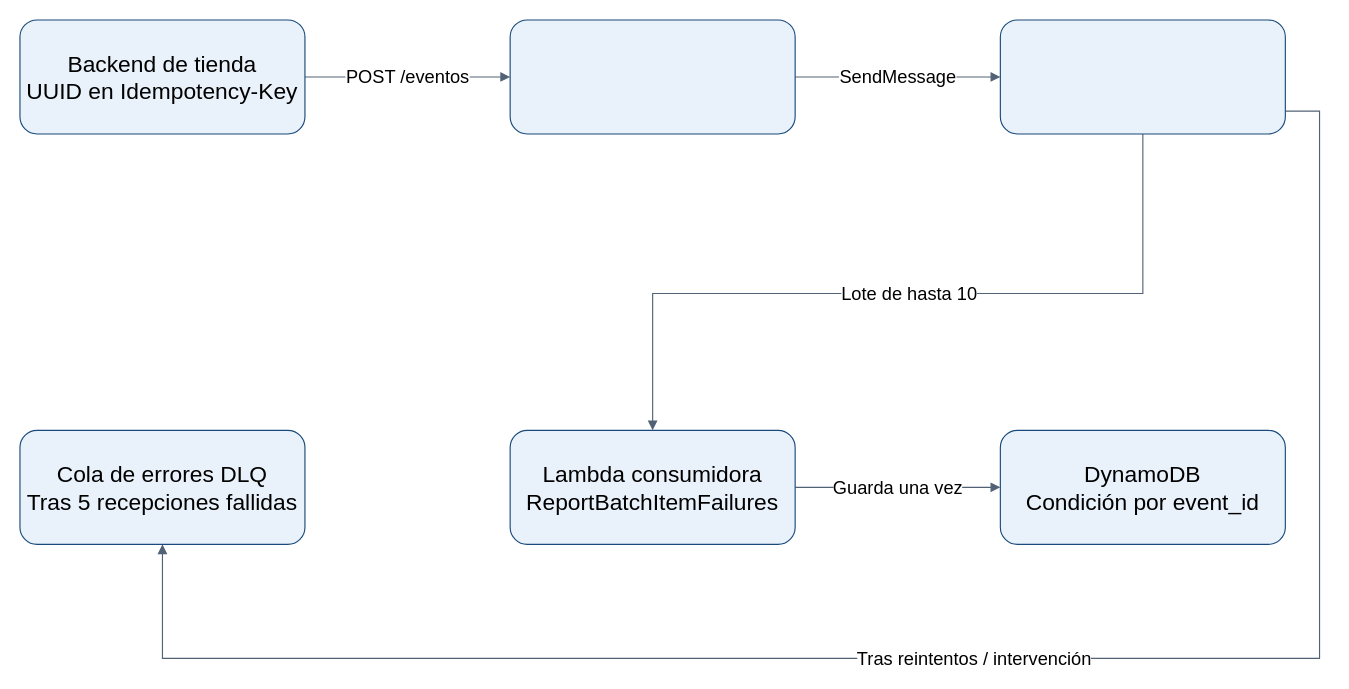
This 1349x689 diagram has some shape labels left out. The centre of each missing label's shape, as x and y in pixels:
API FastAPI Valida token y evento: pixel 652 76
SQS Standard Aceptación durable / 202: pixel 1142 76
